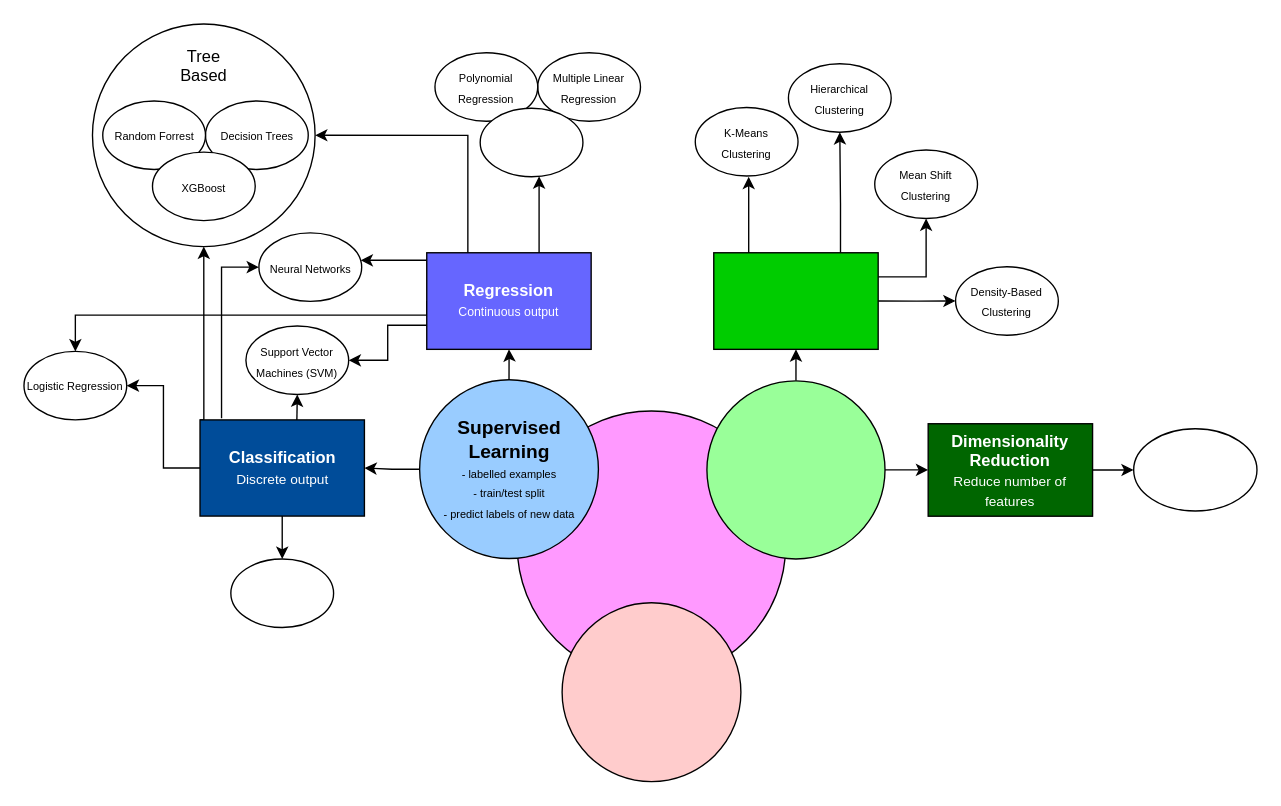
The diagram is 1281 pixels wide and 806 high, and some of its shapes have lost their labels. The centre of each missing label's shape, as x and y in pixels:
"Clustering Grouping of datapoints" belongs at pixel 795 300.
"Linear Regression" belongs at pixel 531 142.
"Machine Learning" belongs at pixel 651 545.
"Naive Bayes" belongs at pixel 281 592.
"Principal Component Analysis (PCA)" belongs at pixel 1194 469.
"Reinforcement Learning - repeated learning - trial/error -reward/penalty" belongs at pixel 651 691.
"Unsupervised Learning -no feeback/labels - find patterns/group data" belongs at pixel 795 469.
